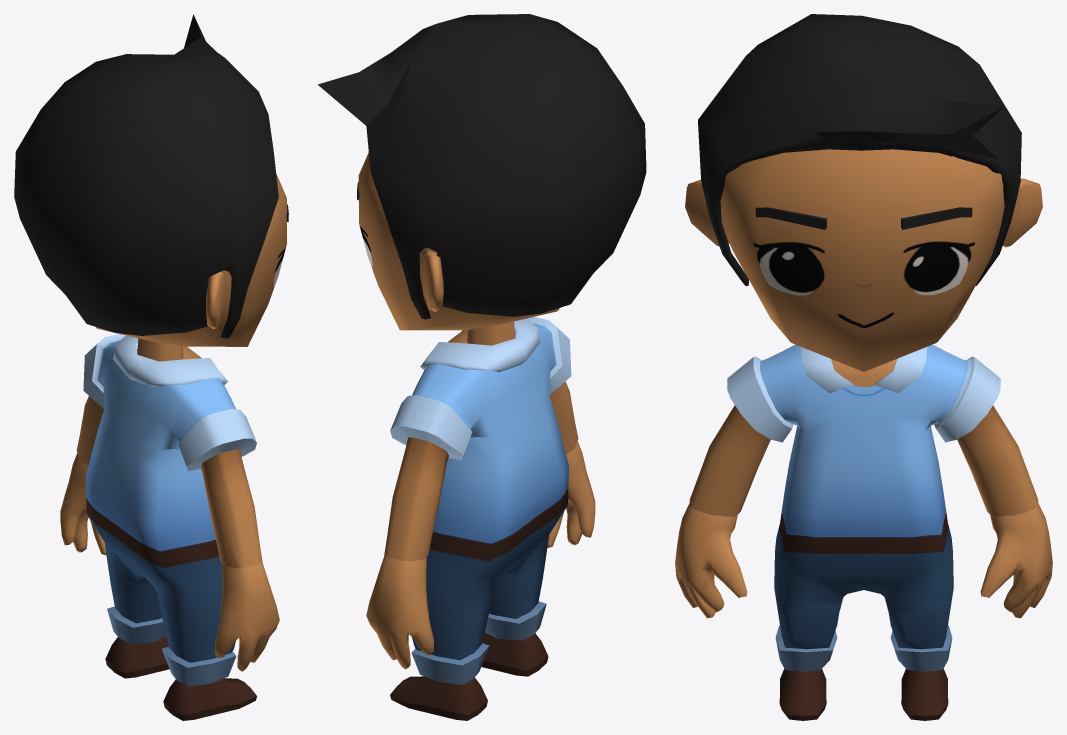
File: MChar2_A.fbx
The picture shows the model from 3 angles, left to right: view 1: azimuth 30°, elevation 25°; view 2: azimuth 150°, elevation 25°; view 3: azimuth 270°, elevation 25°; orthographic projection. The views are drawn at different scales.
Visible parts, largest first — view 1: MChar2_A; view 2: MChar2_A; view 3: MChar2_A.
Boxes of the visible parts, x1=… form: MChar2_A: x1=14, y1=14, x2=288, y2=720; MChar2_A: x1=317, y1=14, x2=646, y2=720; MChar2_A: x1=675, y1=14, x2=1052, y2=720.
Size of the model in its own units: 47.26 by 125 by 64.49.
